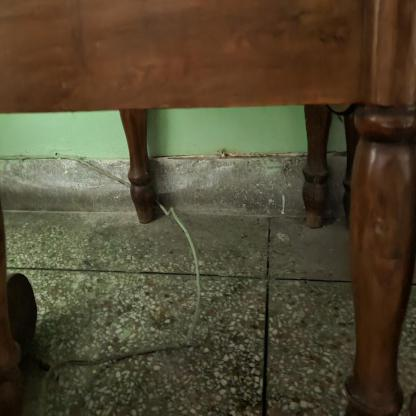cable: (167, 198, 234, 381)
chair: (1, 1, 416, 416)
